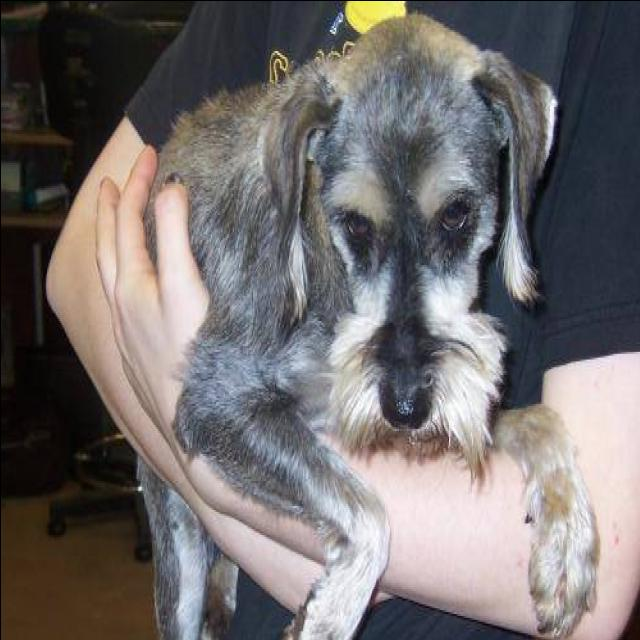dog: (98, 4, 604, 640)
